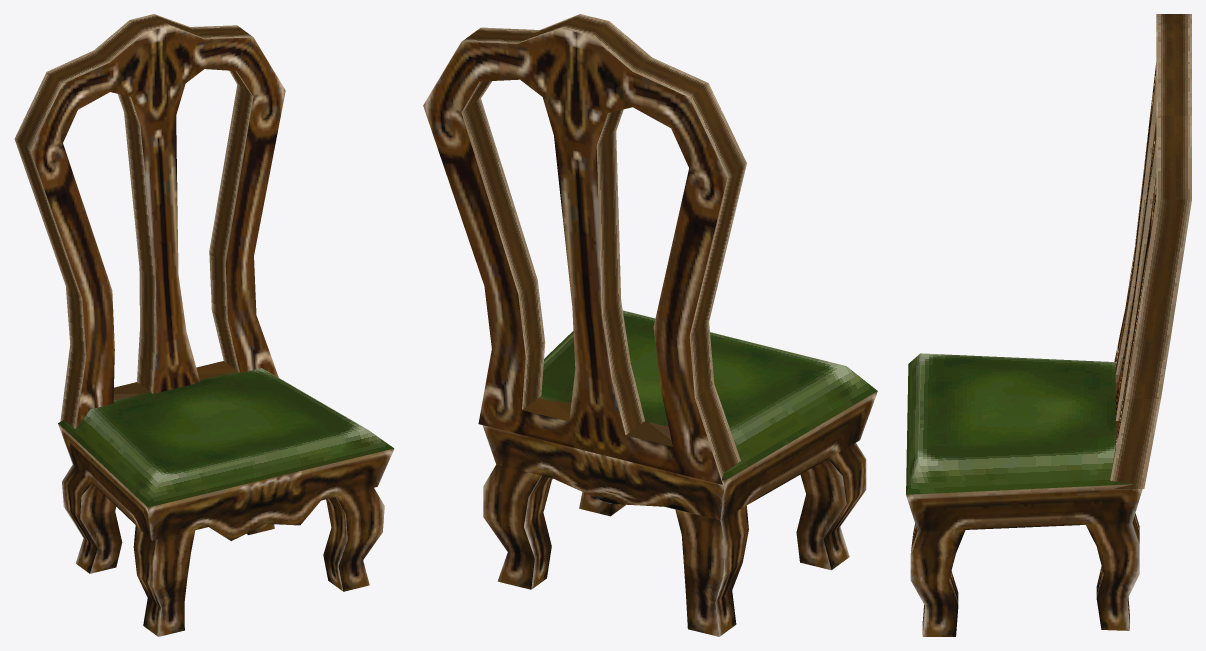
The model's file is isu9.glb.
3 views of the same model, side by side, from view 1: azimuth 30°, elevation 25°; view 2: azimuth 150°, elevation 25°; view 3: azimuth 270°, elevation 25° (orthographic). The views are drawn at different scales.
Visible parts, largest first — view 1: isu9; view 2: isu9; view 3: isu9.
Boxes of the visible parts, box(x1,y1,x2,y2) form: isu9: box(14, 14, 394, 636); isu9: box(423, 14, 877, 636); isu9: box(906, 14, 1191, 636).
Bounding box in the file's own units: 135 × 255 × 120.
Materials: 6 (6 with a texture image).
